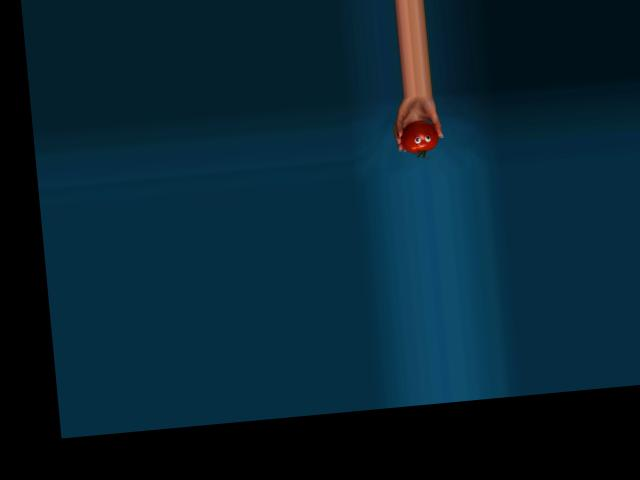tomato: (399, 118, 440, 154)
